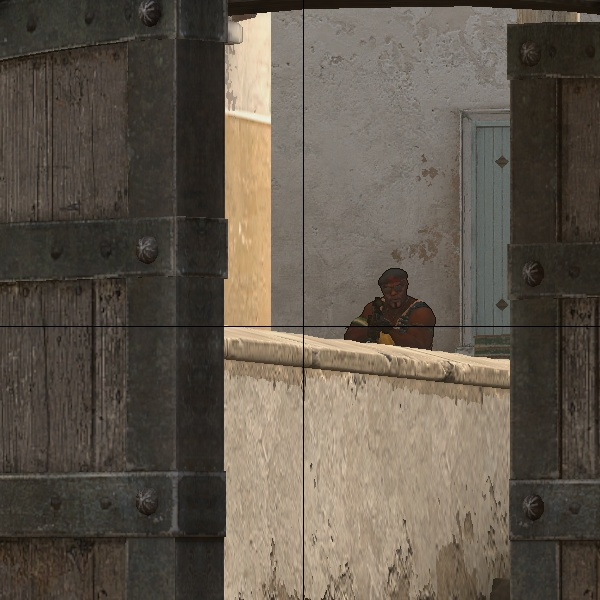t_body: (343, 266, 435, 348)
t_head: (377, 266, 410, 308)
